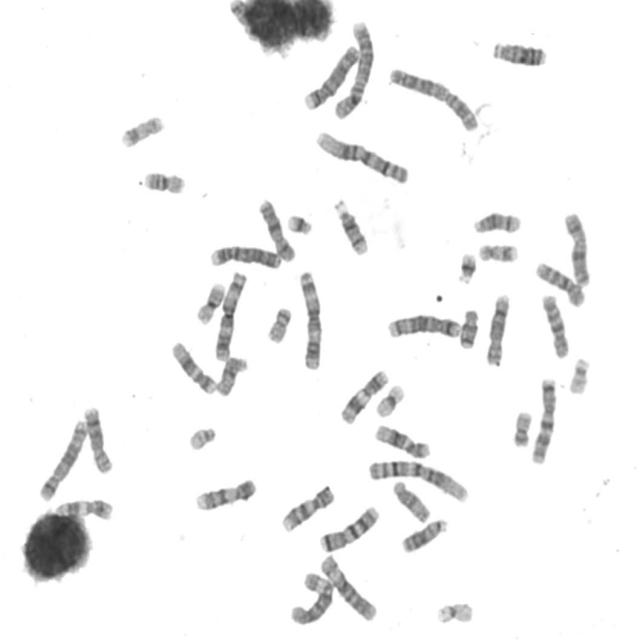A1: (313, 126, 411, 186), (366, 456, 470, 505)
A2: (386, 64, 480, 132), (331, 17, 376, 121)
A3: (212, 268, 248, 362), (296, 266, 324, 371)
B4: (301, 41, 362, 111), (208, 242, 282, 270)
B5: (36, 417, 89, 503), (384, 312, 462, 341)
C10: (533, 258, 587, 309), (538, 290, 572, 360)
C11: (338, 367, 390, 426), (51, 495, 115, 522)
C12: (168, 338, 218, 397), (372, 420, 432, 460)
C6: (317, 552, 378, 624), (287, 569, 336, 627)
C7: (317, 502, 381, 554), (528, 374, 560, 466)
C8: (80, 403, 114, 475), (483, 290, 512, 368)
C9: (279, 482, 336, 534), (192, 474, 258, 512)
D13: (398, 515, 449, 555), (489, 38, 548, 68)
D14: (331, 196, 370, 257), (471, 209, 523, 236)
D15: (389, 478, 432, 524), (214, 353, 249, 398)
E16: (193, 279, 227, 326), (141, 167, 187, 196)
E17: (118, 112, 166, 150), (476, 240, 520, 264)
E18: (224, 1, 262, 40), (457, 305, 480, 351)
F19: (372, 381, 407, 420), (434, 598, 475, 626)
F20: (264, 304, 294, 345), (510, 407, 534, 449)
G21: (454, 249, 478, 286), (284, 211, 314, 237)
G22: (566, 354, 592, 396), (186, 423, 218, 452)
X: (256, 196, 298, 264), (561, 208, 593, 289)
